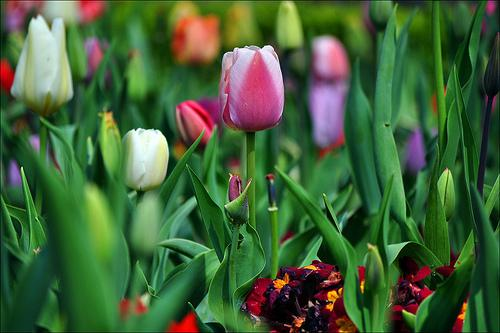tulip: (11, 16, 80, 103), (217, 45, 286, 132), (124, 128, 170, 187), (171, 98, 215, 148), (338, 168, 339, 169)
